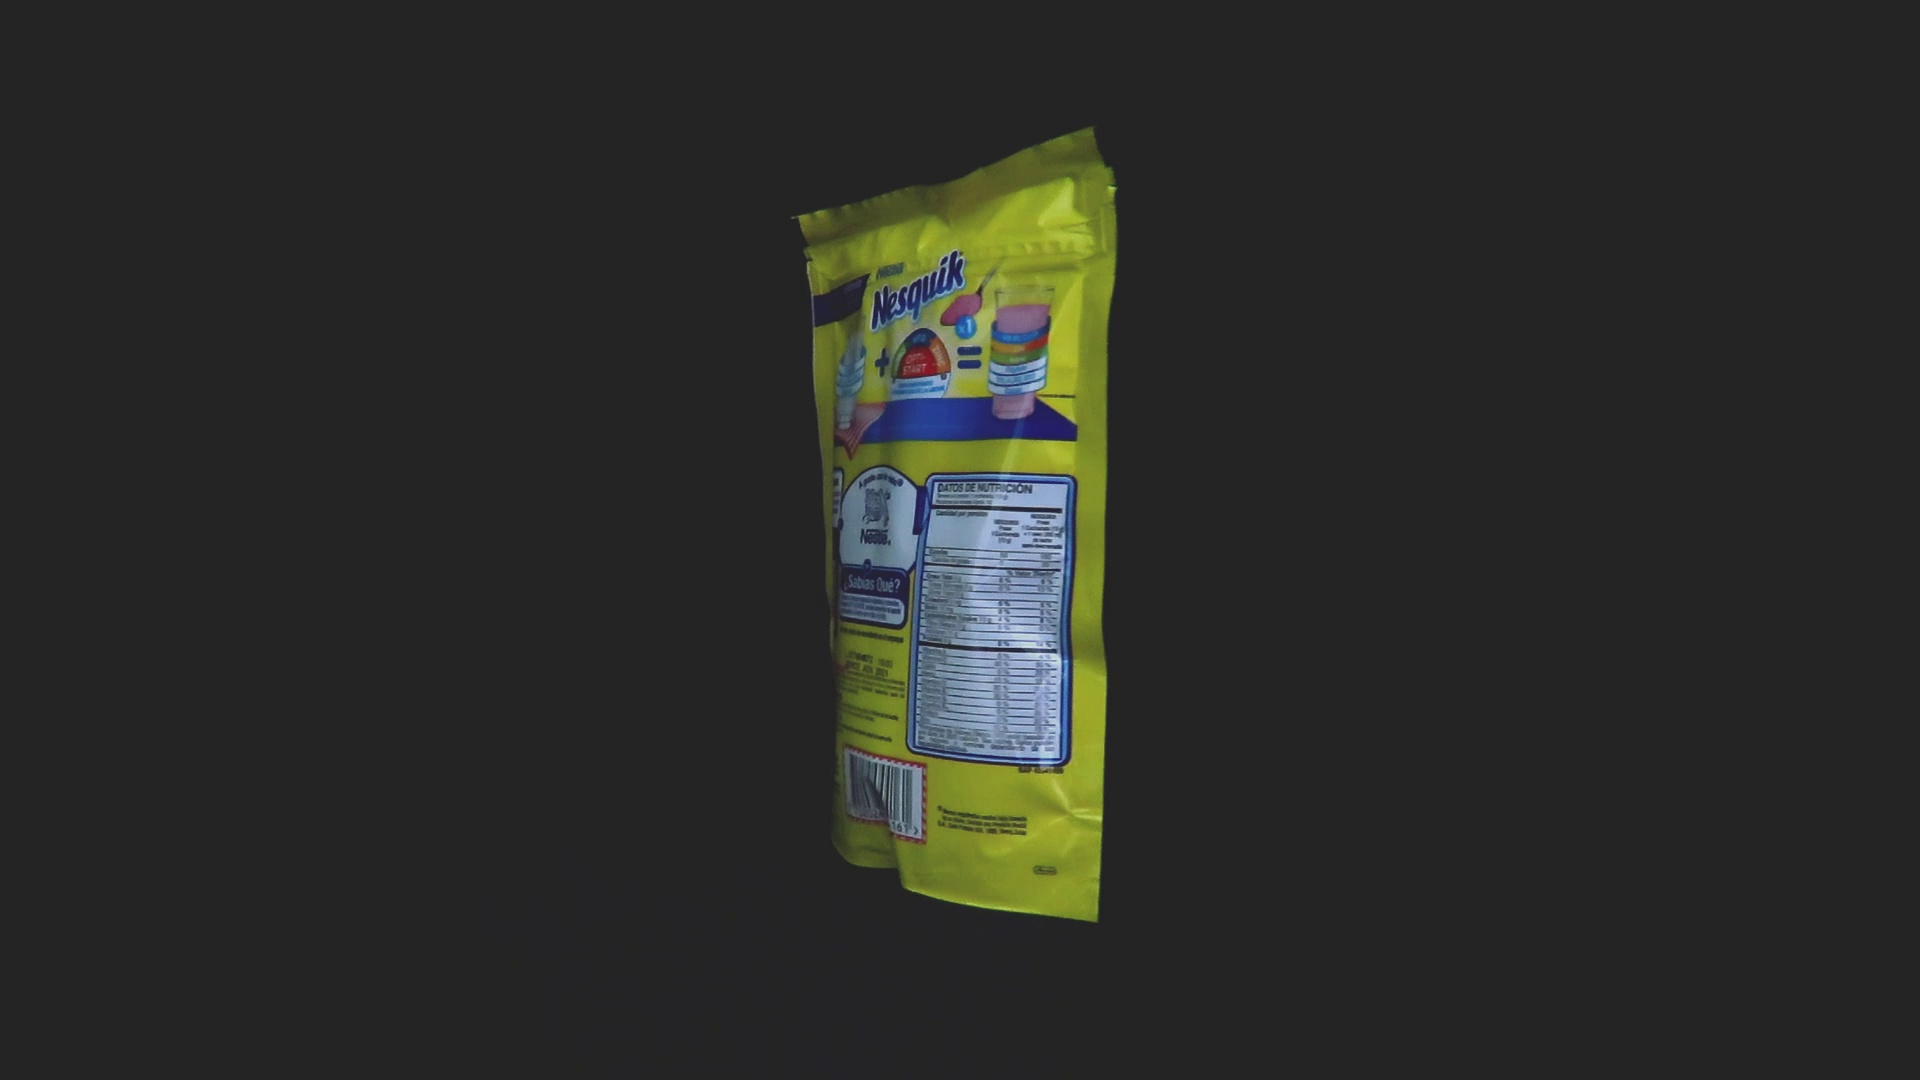COL0170305DYP20000: (786, 121, 1124, 928)
